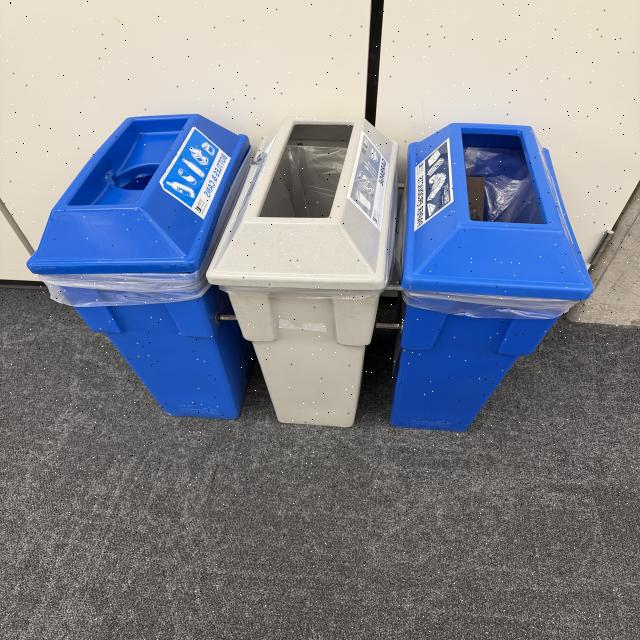Dustbin: (26, 116, 596, 436)
